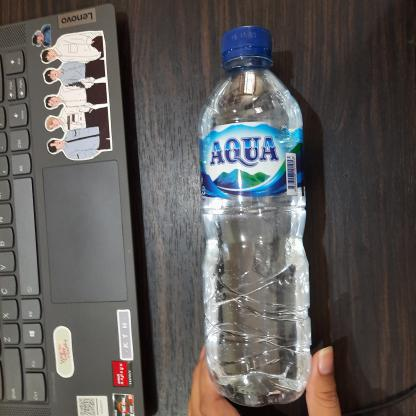plastic: (194, 29, 312, 408)
